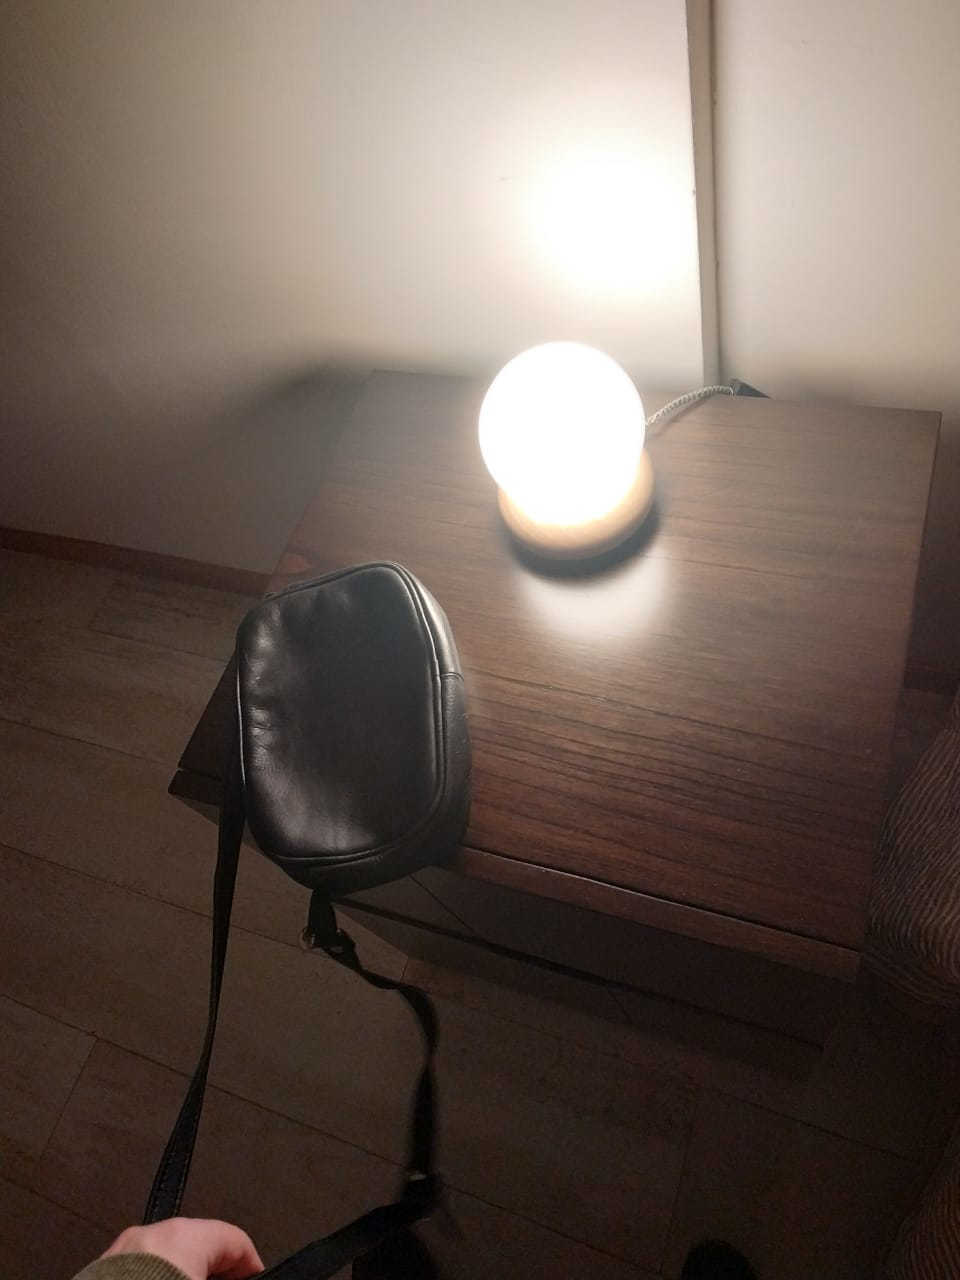Cartera: (55, 457, 589, 1198)
cuero: (78, 494, 542, 1172)
